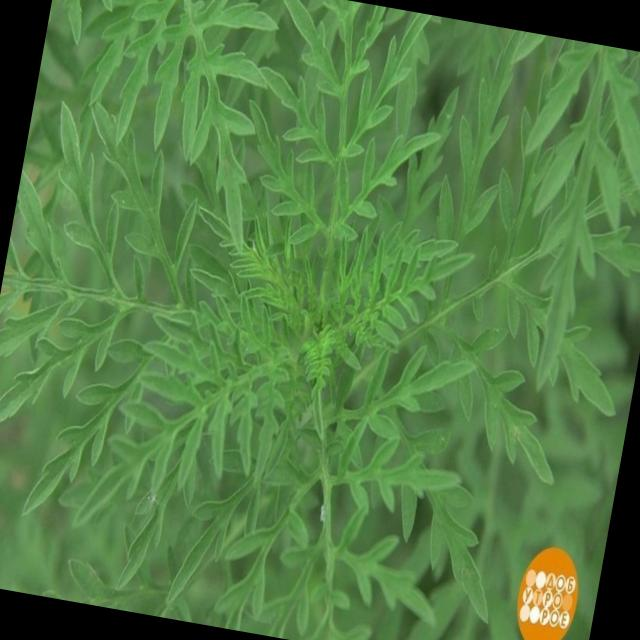ambrosia: (75, 240, 314, 544), (479, 33, 640, 389), (268, 202, 475, 354)
